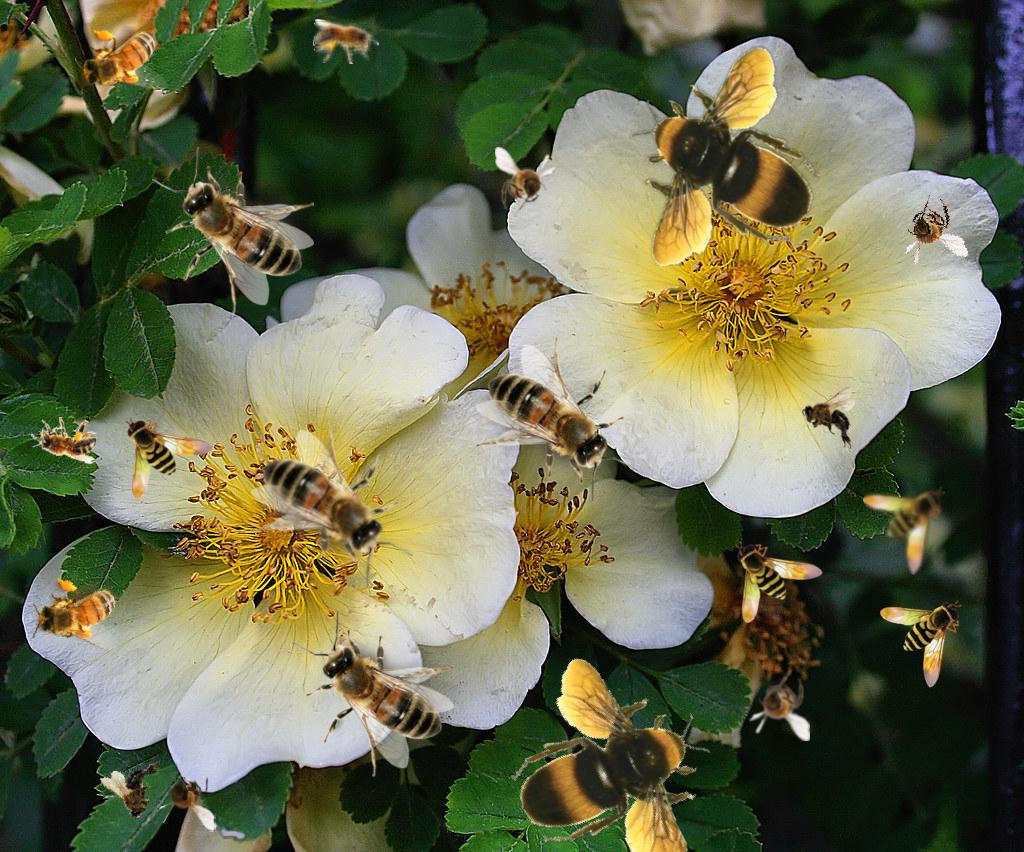Bee: (473, 635, 765, 852), (629, 46, 820, 266), (292, 610, 454, 777), (251, 421, 413, 588), (476, 336, 638, 503), (152, 147, 314, 314), (26, 570, 132, 657), (125, 417, 213, 499), (735, 541, 823, 623), (880, 600, 962, 688), (863, 487, 945, 575), (890, 188, 969, 274), (75, 26, 168, 94), (99, 757, 174, 827), (155, 762, 216, 832), (495, 147, 556, 217), (749, 671, 810, 741), (29, 414, 99, 465), (802, 387, 855, 449), (313, 19, 379, 64)
